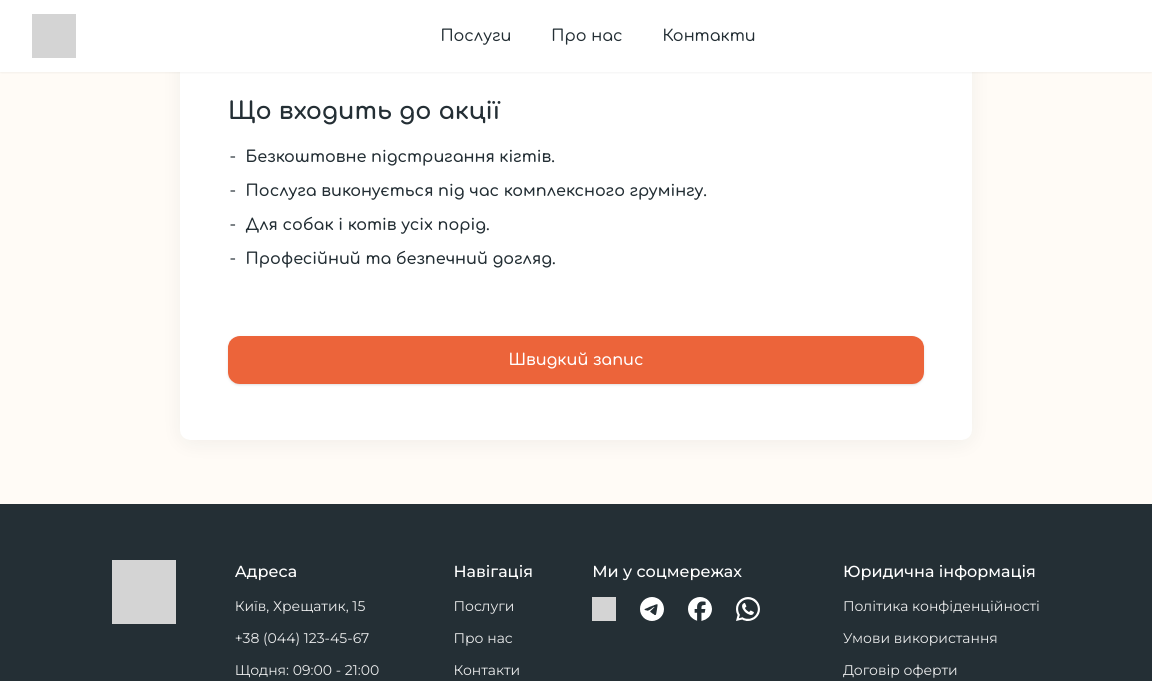
App Root and Auth Gating › Unauthenticated Route Gating & Redirects › renders promo page directly via /promotions/free-nail-trimming and navigates to quick schedule on CTA click
(page scrolled)
Click the button "Швидкий запис": x=576, y=360 [228, 336, 924, 384]
(page scrolled)
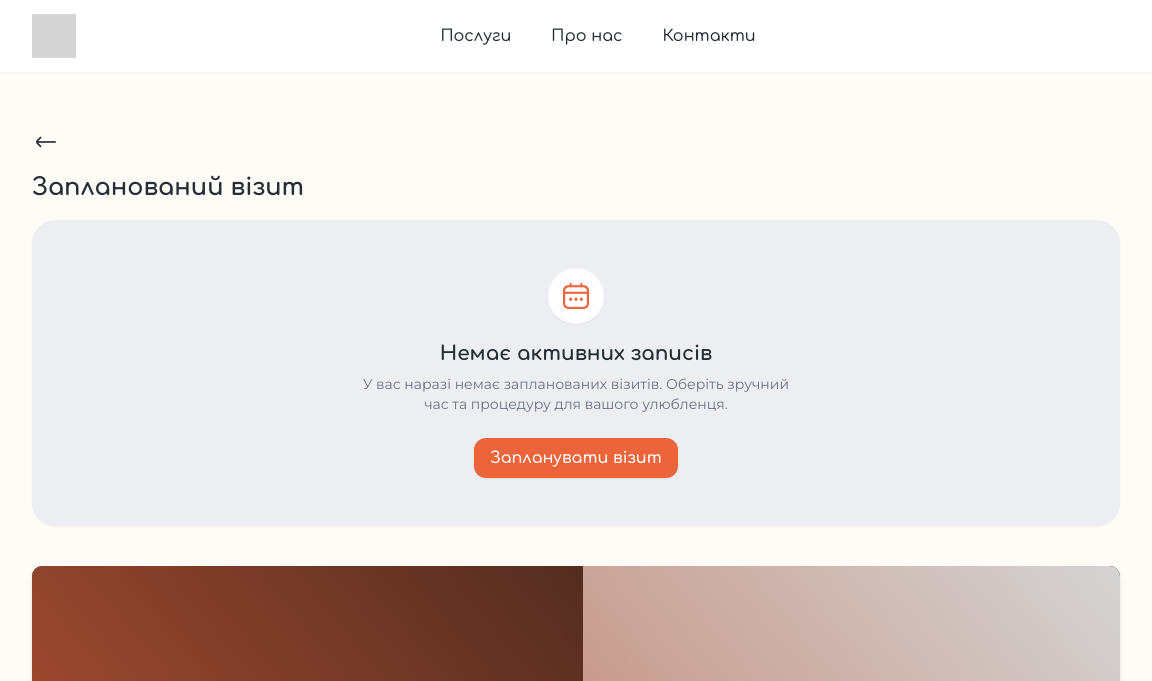
Result: the heading "Запланований візит" is shown at [32, 174, 304, 201]
